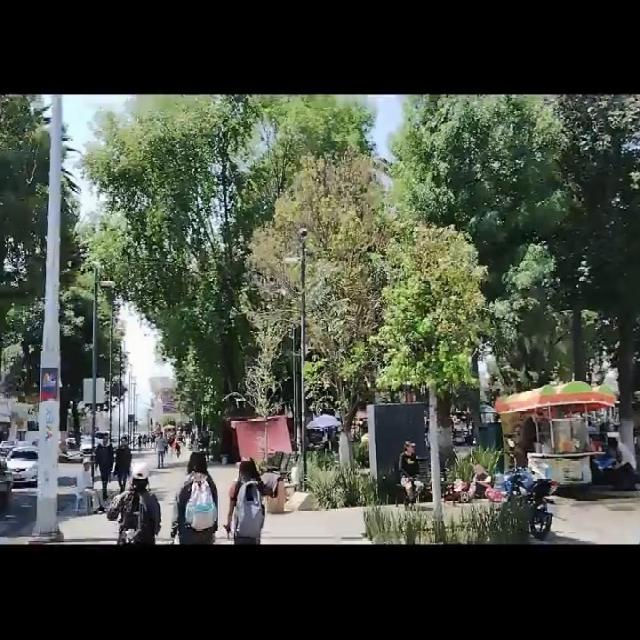adult: (224, 457, 283, 542), (172, 450, 218, 544), (108, 464, 161, 543), (399, 440, 422, 510), (76, 459, 104, 513), (93, 432, 112, 499), (113, 437, 132, 492)
